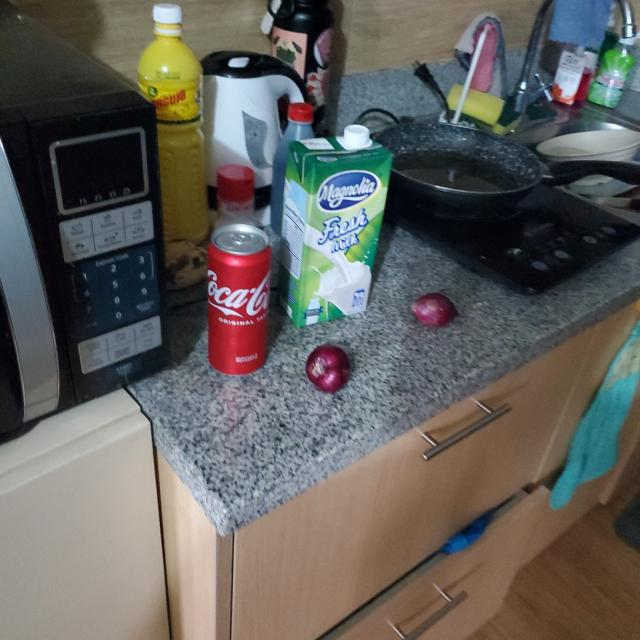coke: (204, 224, 271, 378)
milk: (278, 125, 388, 326)
onion: (304, 339, 362, 395), (410, 290, 466, 326)
